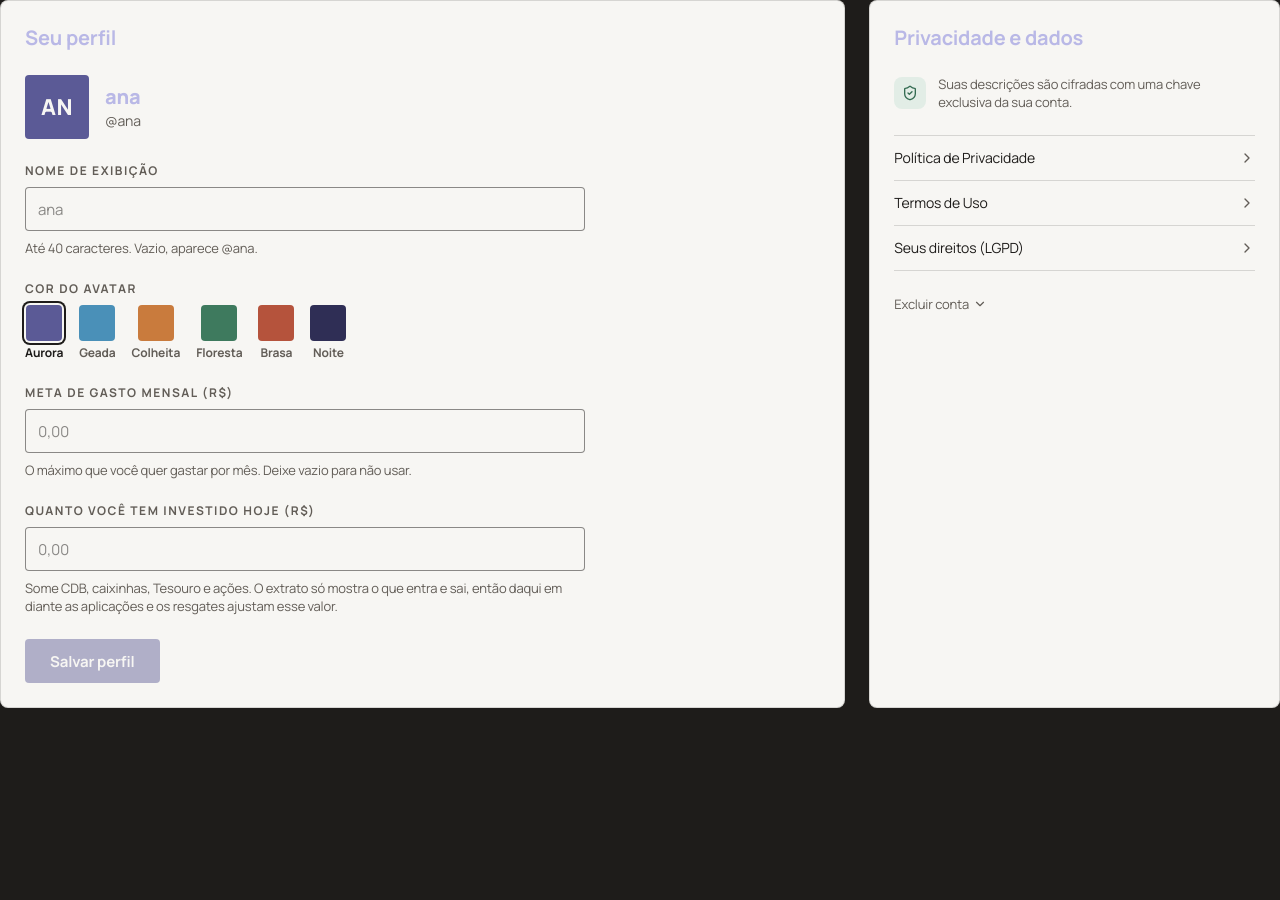
ProfilePage › keeps "Salvar" disabled until something changes
Expected: the button "Salvar perfil" is disabled, [25,639,160,683]
Type "Ana" into the field labelled "Nome de exibição". click: (305, 209)
box: [25,187,585,231]
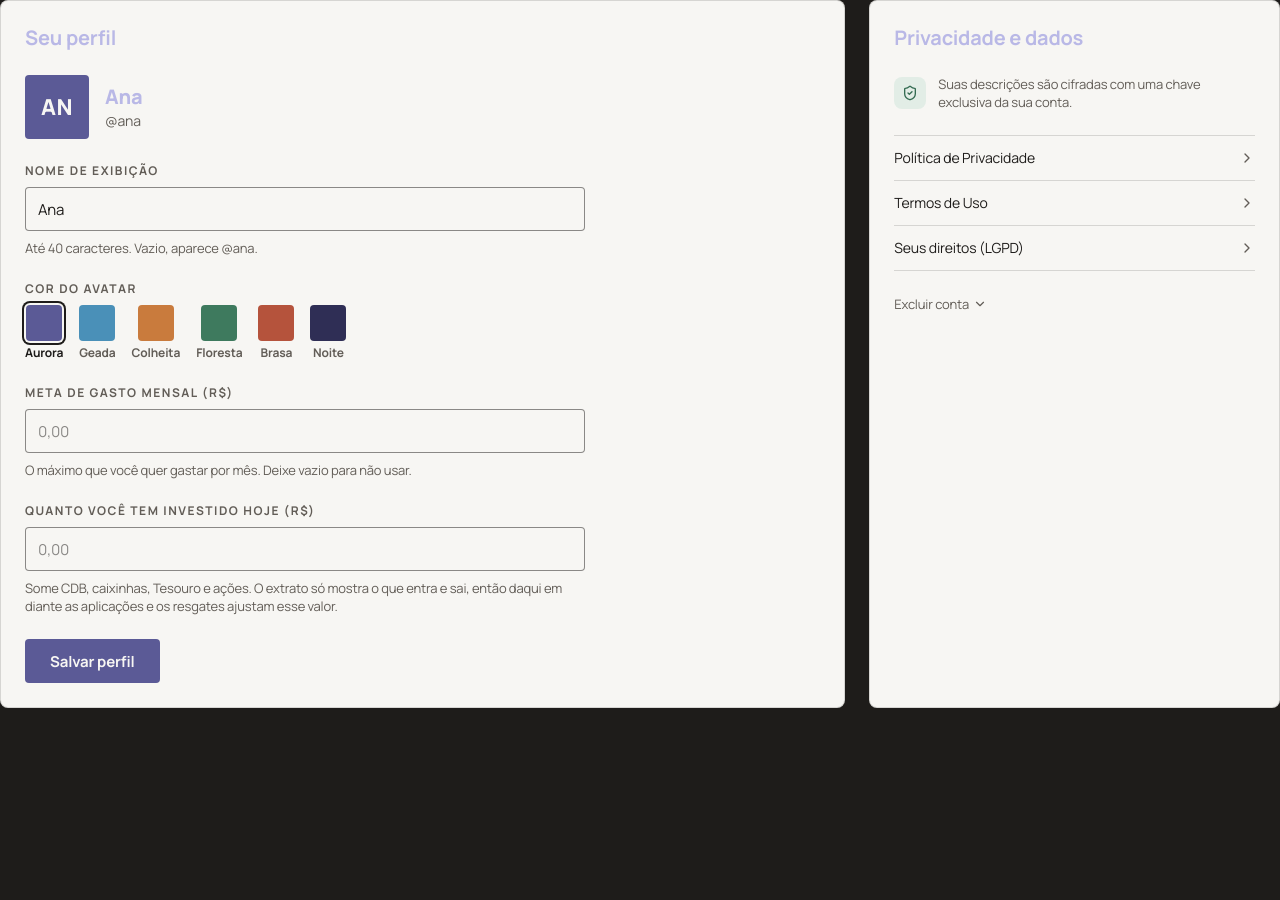
Expected: the button "Salvar perfil" is enabled, [25,639,160,683]
